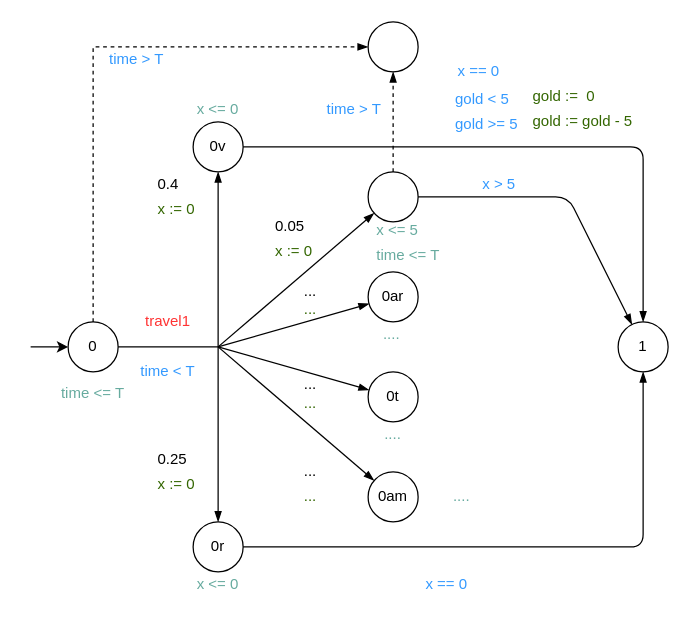
This 690x619 diagram has some shape labels left out. Here are the shapes that lost their labels. From the top down, the centre of each, then its label:
(392,46): end
(392,196): 0ac
